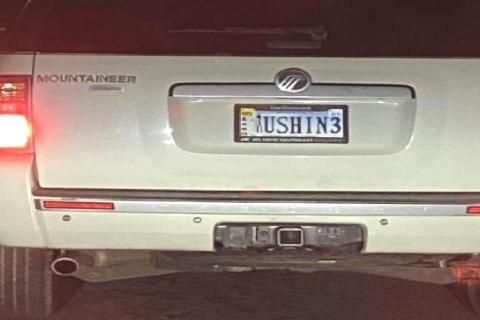LicensePlate: (231, 102, 348, 143)
